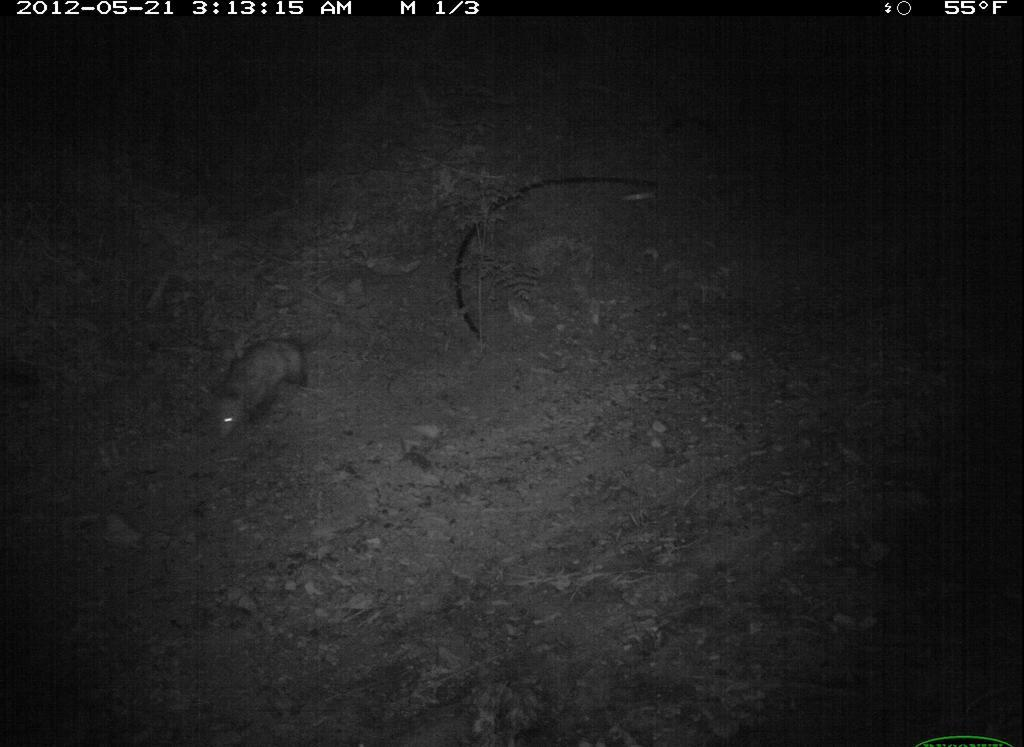opossum: (197, 328, 335, 443)
